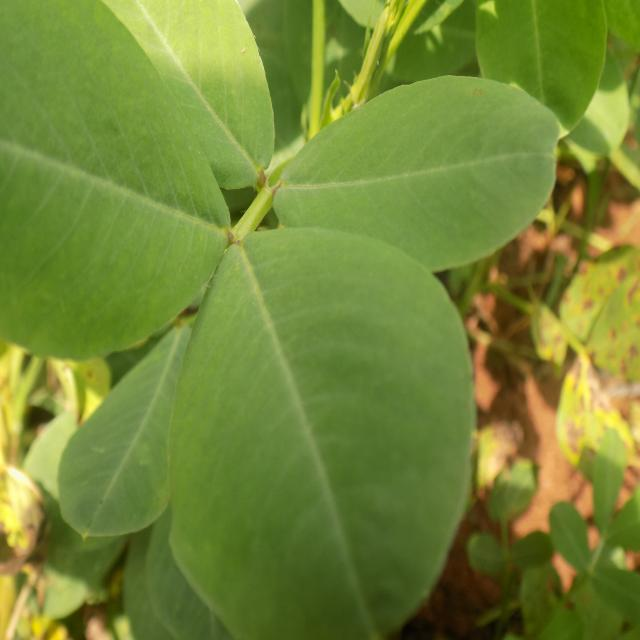Ground nut_healthy: (171, 220, 473, 640), (270, 75, 562, 268), (57, 325, 215, 535)
